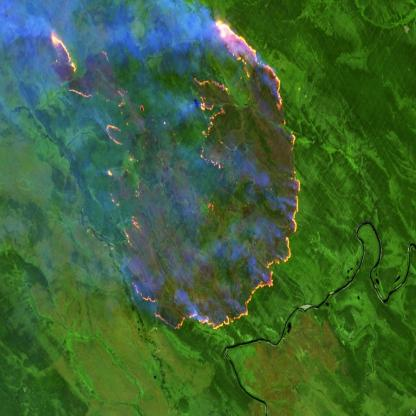fire: (46, 11, 304, 334)
